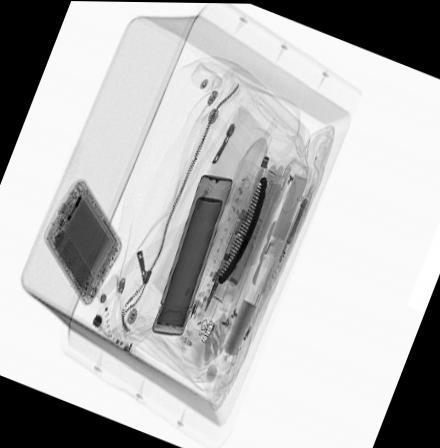Powerbank: (43, 176, 122, 313)
